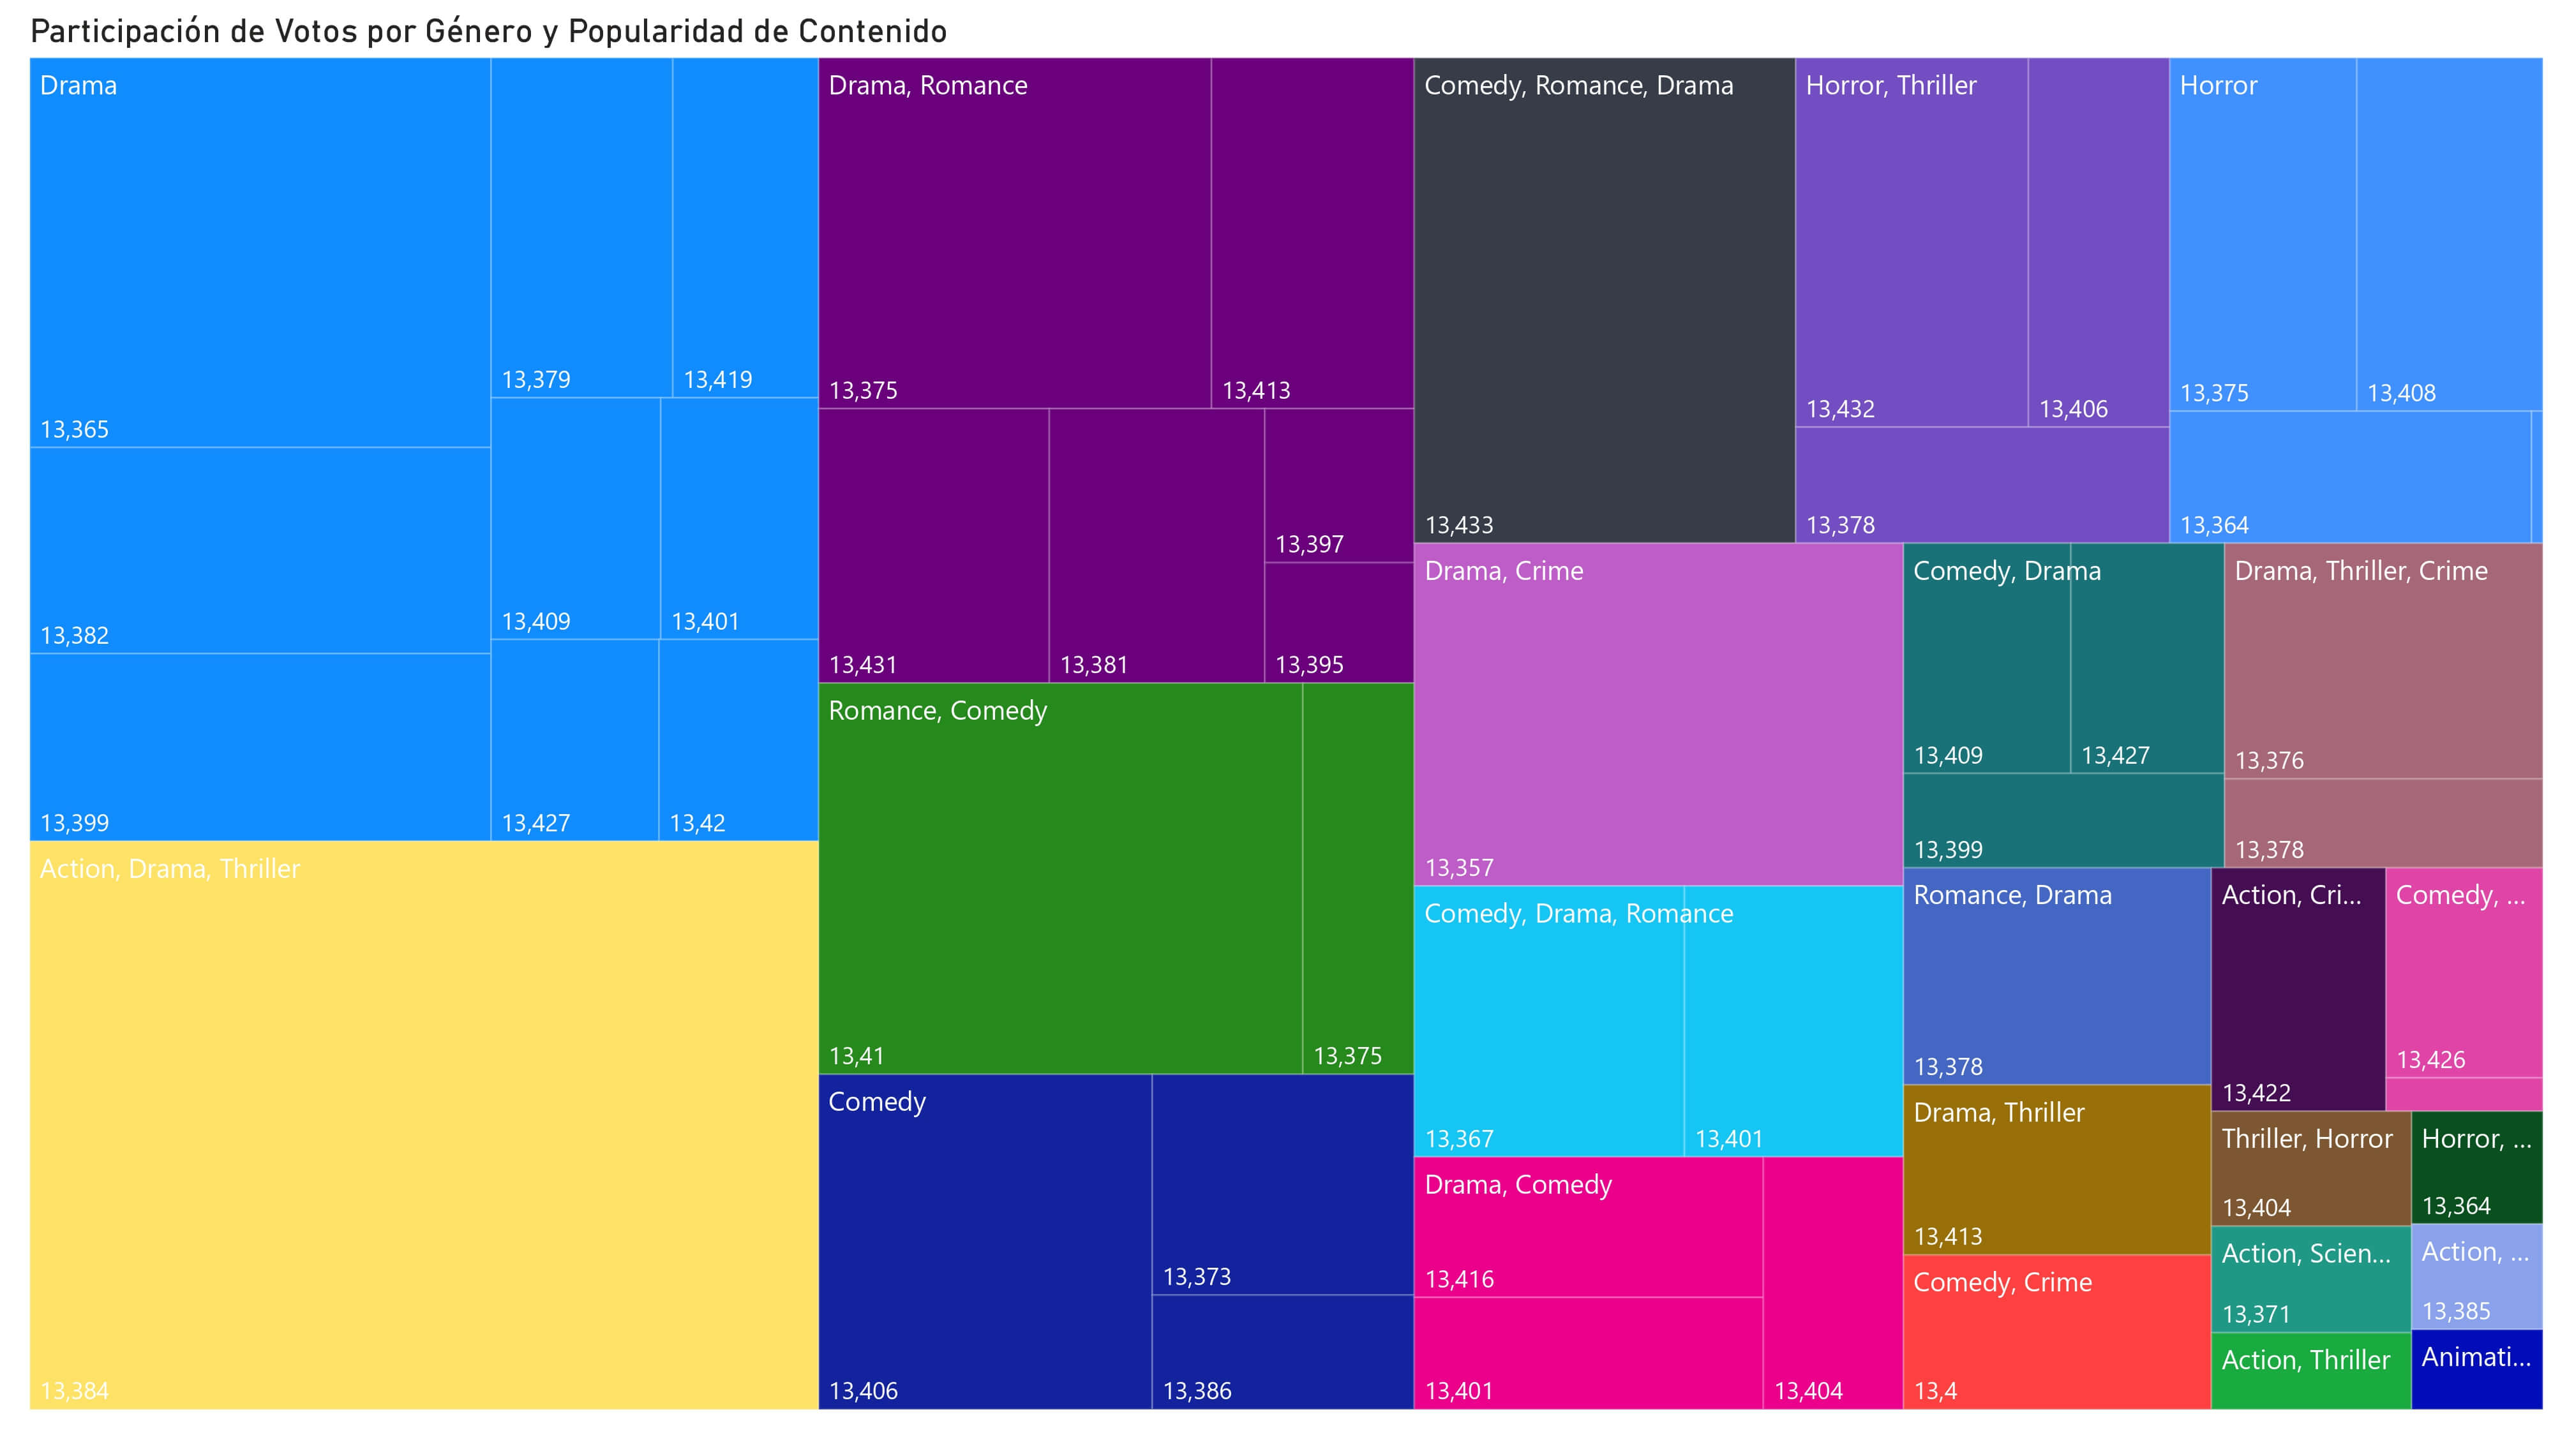

What the dashboard file says about the page in this screenshot:
{"tool":"powerbi","page":{"name":"Página 1","canvas":[1280,720],"ordinal":0},"visuals":[{"type":"treemap","title":"Participación de Votos por Género y Popularidad de Contenido","fields":{"Group":["mymoviedb_2.Genre"],"Details":["mymoviedb_2.Popularity"],"Values":["Sum(mymoviedb_2.Vote_Count)"]},"box":[9.6,0,1269.9,706.7],"z":0}]}

Visuals, with their boxes in screenshot pixels (x1, y1, x2, y2), scaled from the page's 1280x720 canvas onto the 2553x1456 screenshot:
"Participación de Votos por Género y Popularidad de Contenido" treemap: (left=19, top=0, right=2552, bottom=1429)
